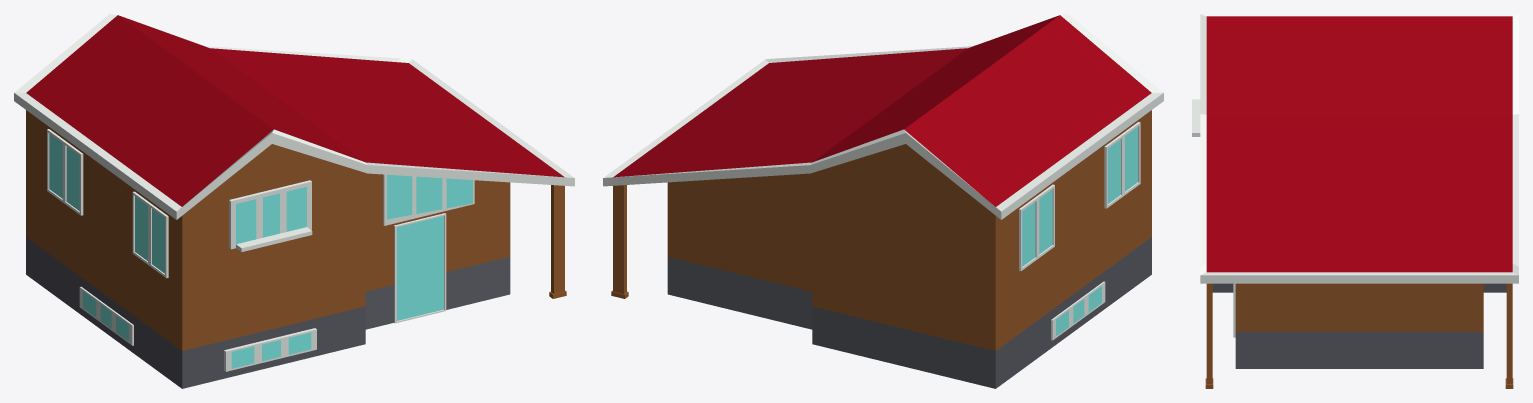
The model's file is Bora_4.fbx.
The picture shows the model from 3 angles, left to right: view 1: azimuth 30°, elevation 25°; view 2: azimuth 150°, elevation 25°; view 3: azimuth 270°, elevation 25°; orthographic projection. The views are drawn at different scales.
Visible parts, largest first — view 1: Cube.001; view 2: Cube.001; view 3: Cube.001.
Part boxes in pixels (x1=…): Cube.001: x1=14, y1=14, x2=574, y2=388; Cube.001: x1=603, y1=14, x2=1163, y2=388; Cube.001: x1=1192, y1=14, x2=1518, y2=388.
Size of the model in its own units: 590 by 336 by 427.
